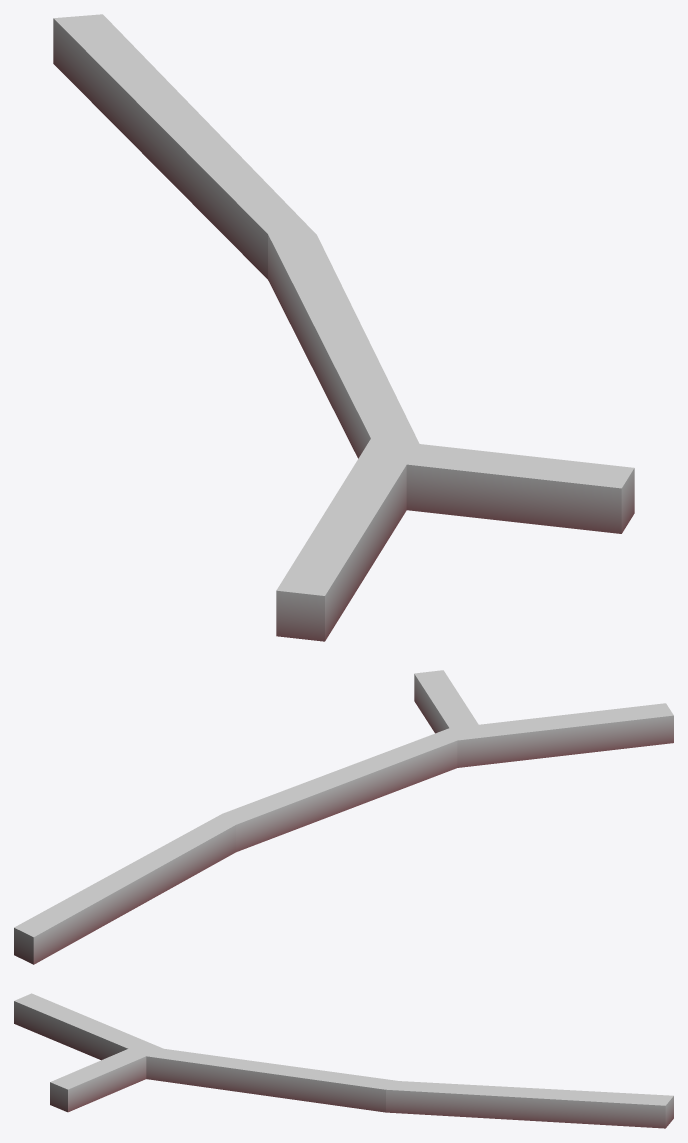
File: SnowStick1.fbx
The picture shows the model from 3 angles, top to bottom: view 1: azimuth 30°, elevation 25°; view 2: azimuth 150°, elevation 25°; view 3: azimuth 270°, elevation 25°; orthographic projection. The views are drawn at different scales.
Visible parts, largest first — view 1: DrawAStickmanEpic.001; view 2: DrawAStickmanEpic.001; view 3: DrawAStickmanEpic.001.
Part boxes in pixels (bbox=[...]): DrawAStickmanEpic.001: bbox=[53, 14, 634, 641]; DrawAStickmanEpic.001: bbox=[14, 670, 673, 964]; DrawAStickmanEpic.001: bbox=[14, 993, 673, 1128].
Bounding box in the file's own units: 129 × 12.26 × 321.
